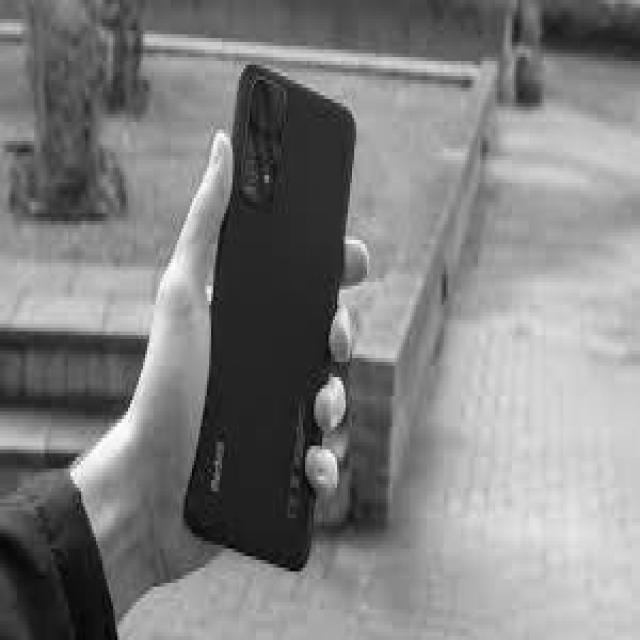No gun_phone: (185, 66, 358, 574)
